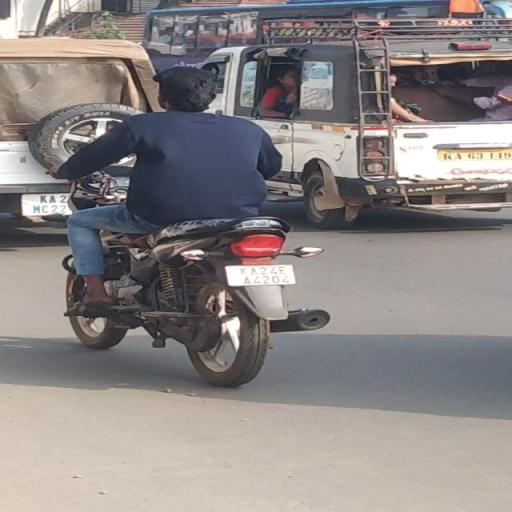bike: (39, 62, 331, 388)
numberplate: (226, 264, 297, 286)
withouthelmet: (160, 68, 213, 110)
